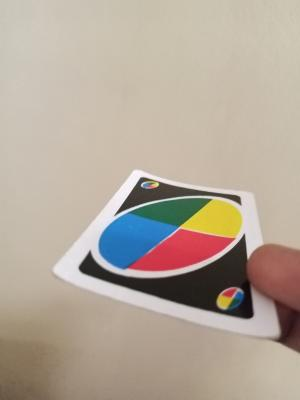wild: (98, 198, 242, 269), (213, 284, 247, 314), (135, 178, 163, 194)
